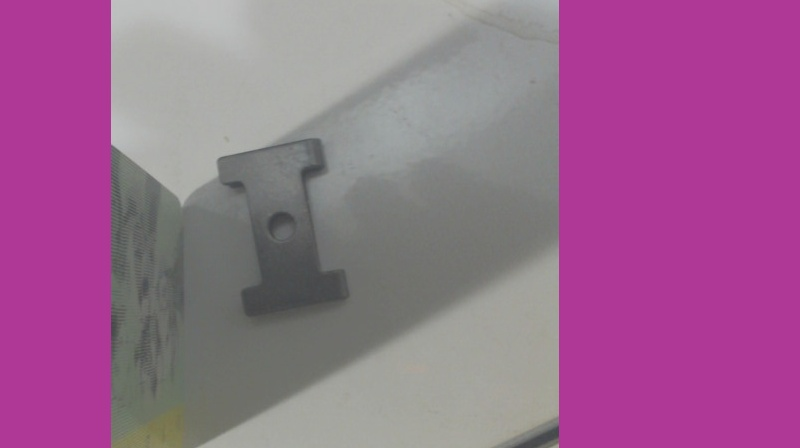O002: (214, 134, 350, 319)
